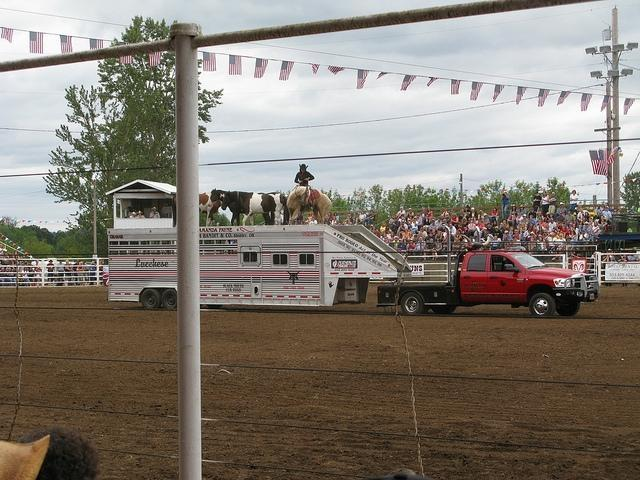truck: (378, 252, 600, 316)
